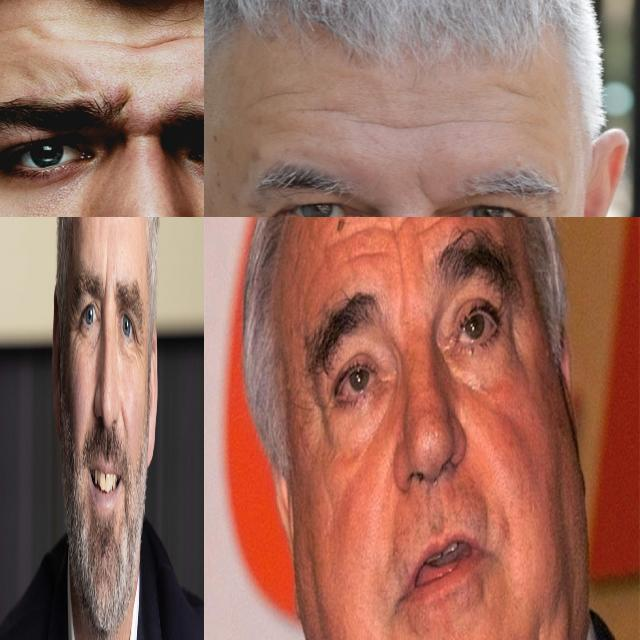crows_feet: (300, 386, 334, 442), (504, 316, 524, 362), (230, 206, 282, 217), (71, 318, 79, 360), (136, 330, 143, 366)
forehead: (363, 110, 451, 148), (346, 221, 390, 267), (120, 30, 198, 54), (306, 99, 350, 128), (254, 82, 304, 106), (496, 78, 530, 104)
frown_line: (411, 170, 439, 210), (395, 254, 409, 314), (127, 121, 159, 145), (103, 256, 109, 306)
gummy_smile: (120, 404, 128, 440)
